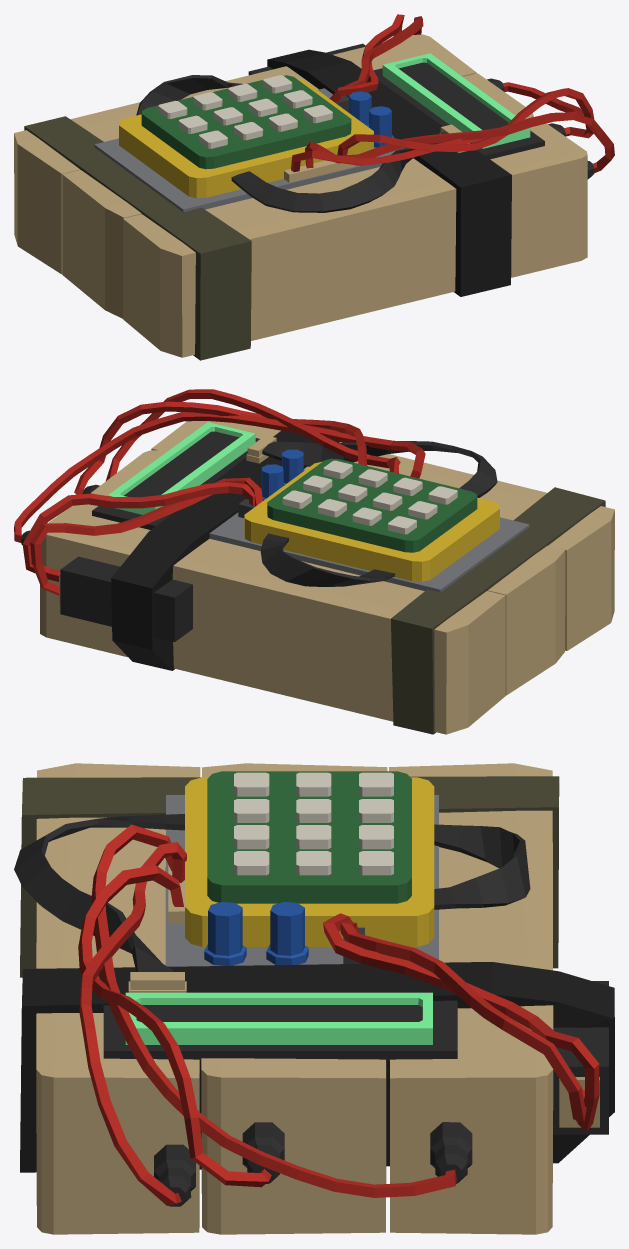
Rendered from bomb.glb.
3 renders of one model, top to bottom at view 1: azimuth 30°, elevation 25°; view 2: azimuth 150°, elevation 25°; view 3: azimuth 270°, elevation 25°, orthographic. The views are drawn at different scales.
Visible parts, largest first — view 1: bomb; view 2: bomb; view 3: bomb.
Boxes of the visible parts, x1,y1,x2,y2 form: bomb: (14,14,614,360); bomb: (14,389,614,734); bomb: (14,763,614,1234).
Size of the model in its own units: 0.2607 by 0.0761 by 0.1805.
Materials: 1 (1 with a texture image).
